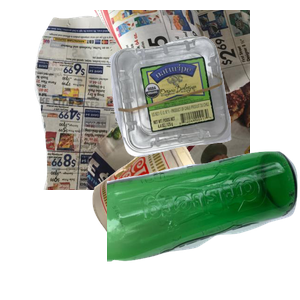glass: (107, 149, 300, 300)
paper: (32, 10, 272, 190)
plastic: (106, 34, 300, 183)
trash: (90, 129, 295, 300)
